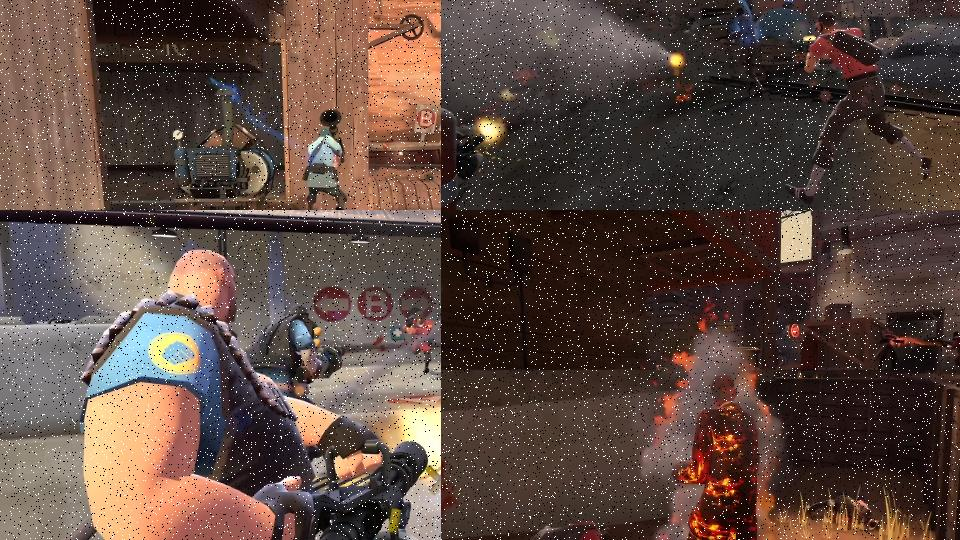Enemy: (81, 248, 426, 540), (784, 9, 933, 207), (664, 372, 797, 540), (246, 305, 345, 406), (295, 105, 356, 210), (714, 4, 767, 97), (507, 510, 629, 540), (870, 321, 908, 376), (403, 308, 434, 375), (935, 327, 960, 382)
